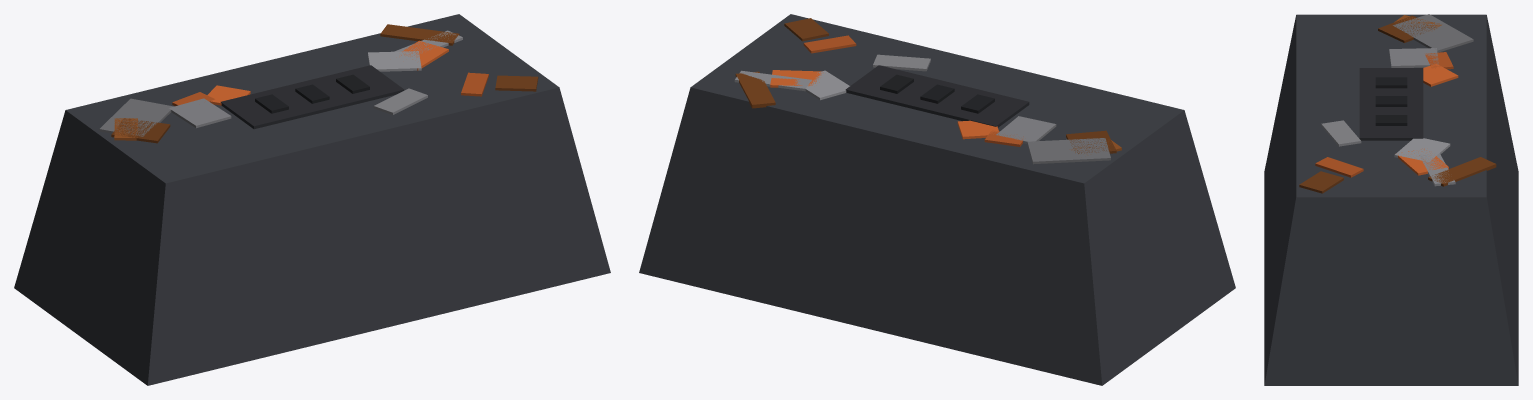
Rendered from scrap_ingot.glb.
The picture shows the model from 3 angles, left to right: view 1: azimuth 30°, elevation 25°; view 2: azimuth 150°, elevation 25°; view 3: azimuth 270°, elevation 25°; orthographic projection. The views are drawn at different scales.
Visible parts, largest first — view 1: Mesh; view 2: Mesh; view 3: Mesh.
Part boxes in pixels (x1,y1,x2,y2): Mesh: [14, 14, 610, 385]; Mesh: [639, 14, 1235, 385]; Mesh: [1264, 14, 1518, 385].
Bounding box in the file's own units: 0.8 × 0.31 × 0.4.
